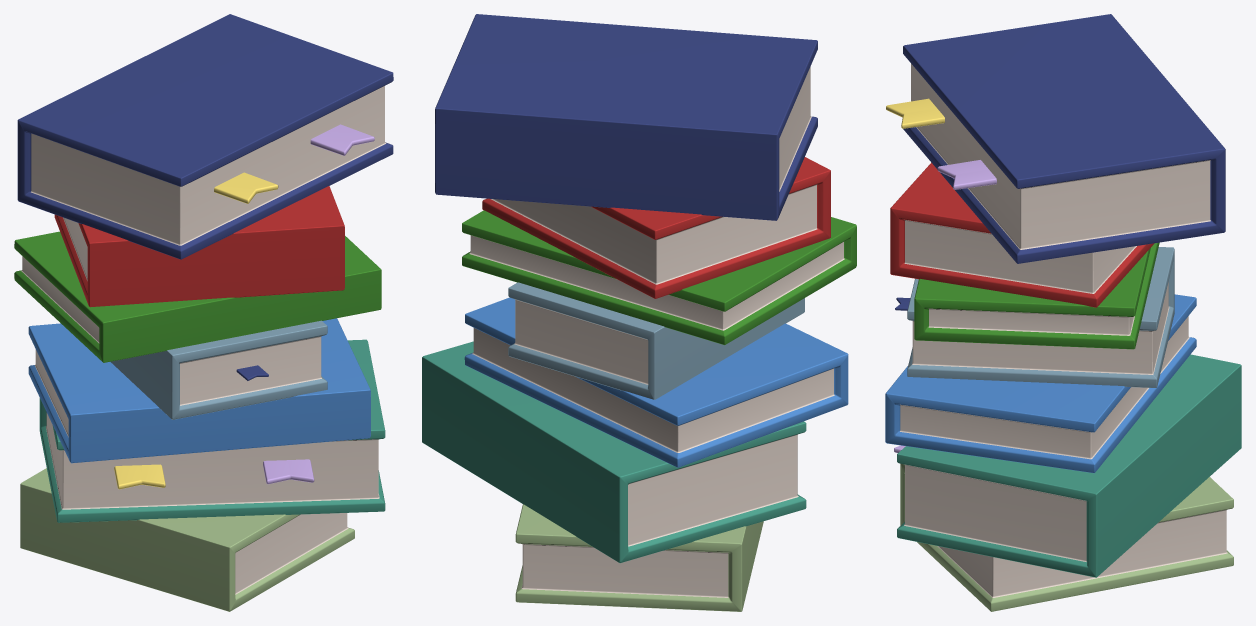
Rendered from Books_26.glb.
3 renders of one model, left to right at view 1: azimuth 30°, elevation 25°; view 2: azimuth 150°, elevation 25°; view 3: azimuth 270°, elevation 25°, orthographic. The views are drawn at different scales.
Visible parts, largest first — view 1: Books_26; view 2: Books_26; view 3: Books_26.
Part boxes in pixels (bbox=[...]): Books_26: bbox=[14, 14, 393, 611]; Books_26: bbox=[422, 14, 856, 611]; Books_26: bbox=[885, 14, 1241, 611].
Size of the model in its own units: 0.4073 by 0.4945 by 0.3483.
Materials: 1 (1 with a texture image).
